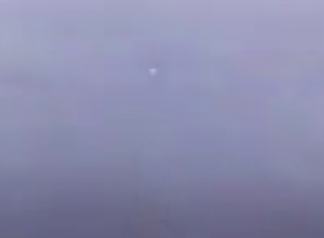Target: (150, 70, 155, 74)
